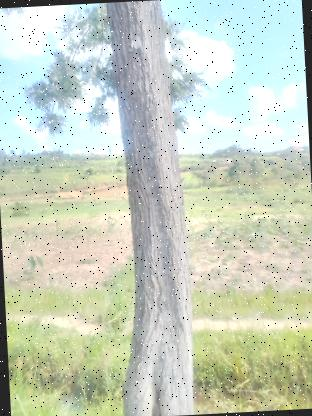tree: (97, 0, 203, 416)
